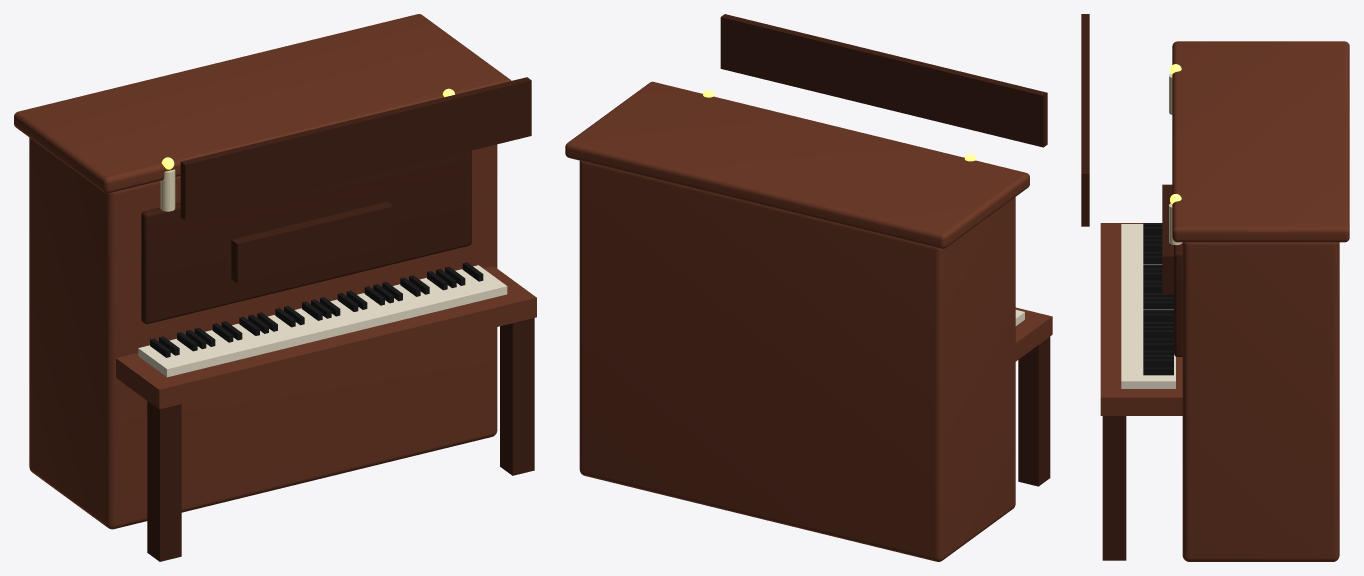
File: piano.glb
3 renders of one model, left to right at view 1: azimuth 30°, elevation 25°; view 2: azimuth 150°, elevation 25°; view 3: azimuth 270°, elevation 25°, orthographic. The views are drawn at different scales.
Visible parts, largest first — view 1: Case, Top, Panel, Cover, KeyBed, WhiteKeys, Stand, Leg_-1, Leg_1; view 2: Case, Top, Cover, Leg_-1, KeyBed; view 3: Case, Top, KeyBed, WhiteKeys, Leg_1, Cover, Stand, Panel.
Part boxes in pixels (bbox=[...]): Case: bbox=[29, 137, 497, 529]; Top: bbox=[14, 14, 511, 193]; Panel: bbox=[141, 150, 471, 324]; Cover: bbox=[180, 77, 531, 220]; KeyBed: bbox=[116, 266, 536, 409]; WhiteKeys: bbox=[138, 265, 507, 377]; Stand: bbox=[231, 201, 393, 283]; Leg_-1: bbox=[147, 401, 181, 561]; Leg_1: bbox=[500, 318, 534, 475]; Case: bbox=[579, 160, 1015, 561]; Top: bbox=[565, 81, 1029, 248]; Cover: bbox=[720, 14, 1047, 147]; Leg_-1: bbox=[1018, 337, 1050, 486]; KeyBed: bbox=[1015, 307, 1052, 361]; Case: bbox=[1182, 242, 1339, 561]; Top: bbox=[1172, 41, 1349, 242]; KeyBed: bbox=[1100, 223, 1182, 415]; WhiteKeys: bbox=[1121, 224, 1175, 388]; Leg_1: bbox=[1102, 416, 1126, 560]; Cover: bbox=[1081, 14, 1089, 226]; Stand: bbox=[1162, 184, 1173, 293]; Panel: bbox=[1174, 243, 1182, 356].
Bounding box in the file's own units: 1.31 × 1.23 × 0.7875.
